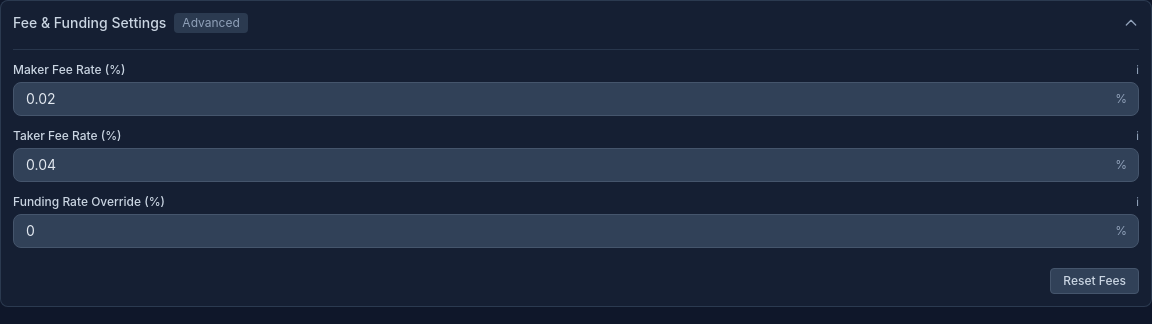
FeeSettings › updates fee rates and resets to defaults
Replace the text in the number field labelled "Maker Fee Rate (%)" with "0.05" at (576, 99), box [13,82,1139,116]
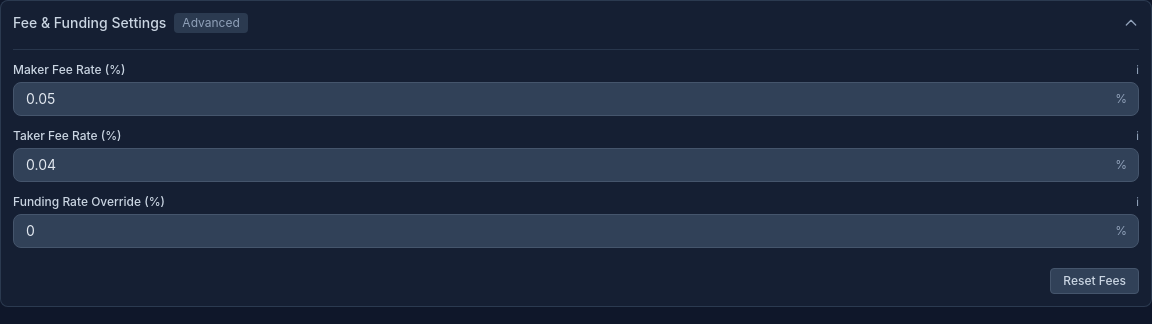
Click the button "Reset Fees" at (1095, 281), box [1050,268,1139,294]
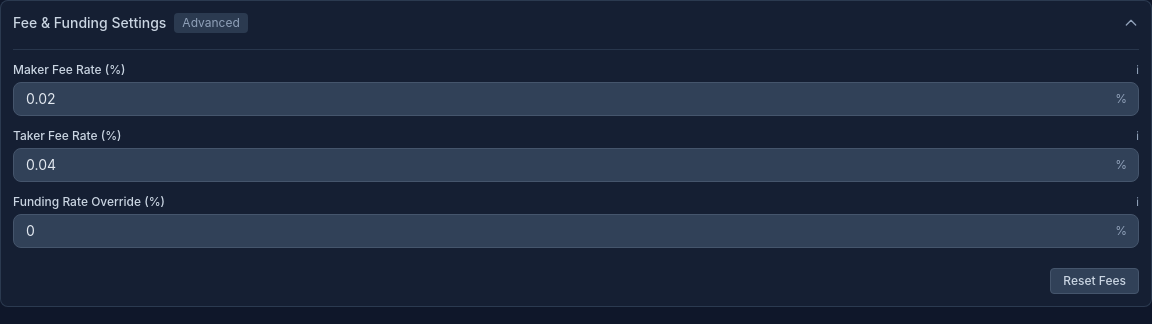
Expected: the number field labelled "Maker Fee Rate (%)" holds "0.02", [13,82,1139,116]
